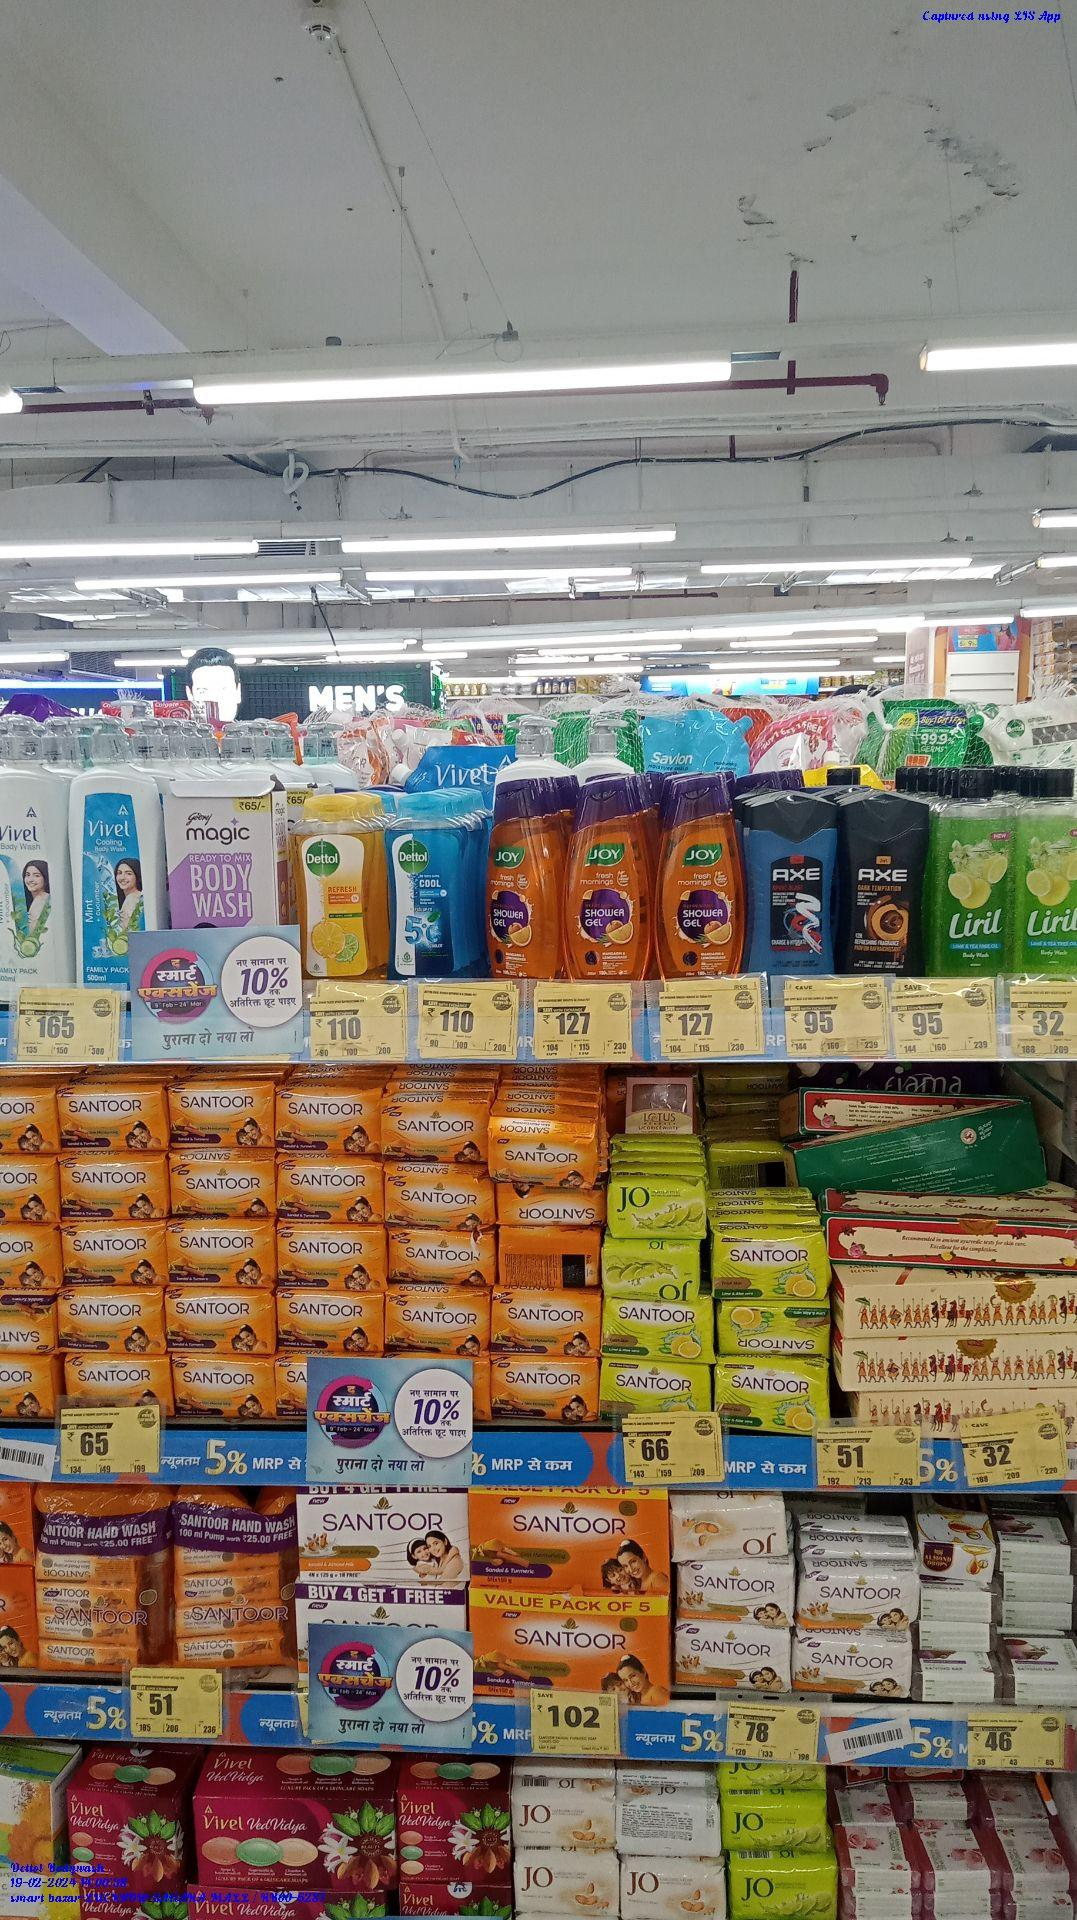Dettol_Bodywash_Cool: (385, 791, 455, 977)
Dettol_Bodywash_Refresh: (298, 798, 376, 980)
Joy_Shower_Gel_Mandarin_and_Lemongrass_250ML: (656, 766, 742, 975), (567, 786, 649, 978), (486, 786, 558, 980)
Liril_Lime_and_Tea_Tree_Oil_Body_Wash_250ML: (933, 764, 1010, 973), (1014, 766, 1077, 969)
